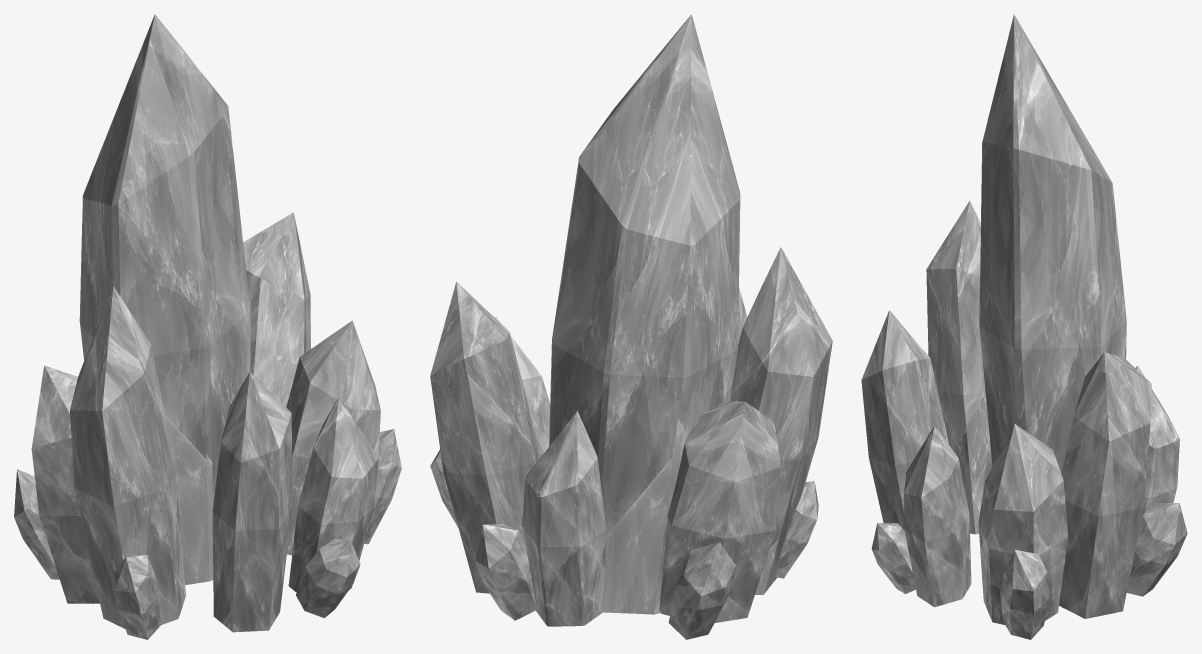
Rendered from Ore_P7.fbx.
3 renders of one model, left to right at view 1: azimuth 30°, elevation 25°; view 2: azimuth 150°, elevation 25°; view 3: azimuth 270°, elevation 25°, orthographic. The views are drawn at different scales.
Visible parts, largest first — view 1: Ore_P7_LOD0; view 2: Ore_P7_LOD0; view 3: Ore_P7_LOD0.
Boxes of the visible parts, box(x1,y1,x2,y2) form: Ore_P7_LOD0: box(14, 14, 401, 639); Ore_P7_LOD0: box(430, 14, 832, 639); Ore_P7_LOD0: box(861, 14, 1187, 639).
Size of what is drawn, in the model's own units: 1.13 by 1.75 by 0.9735.
1 material, 1 textured.
